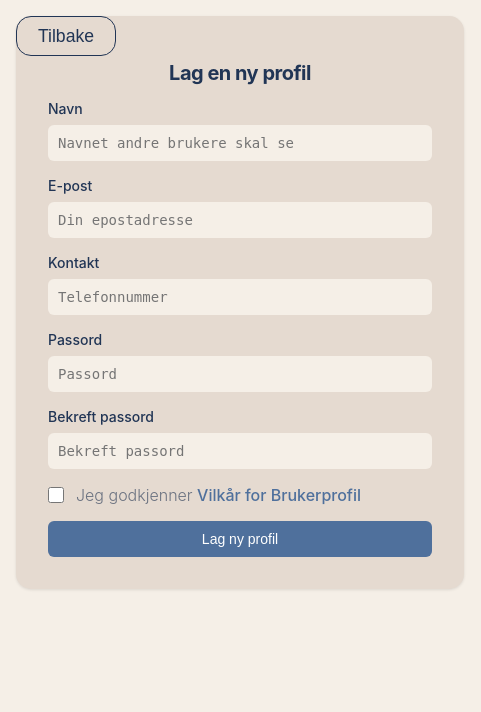
Test case: Submit form with insufficient data
Note: Form subimission without any user input
Click the button "Lag ny profil": coordinates (240, 539) [48, 521, 432, 557]
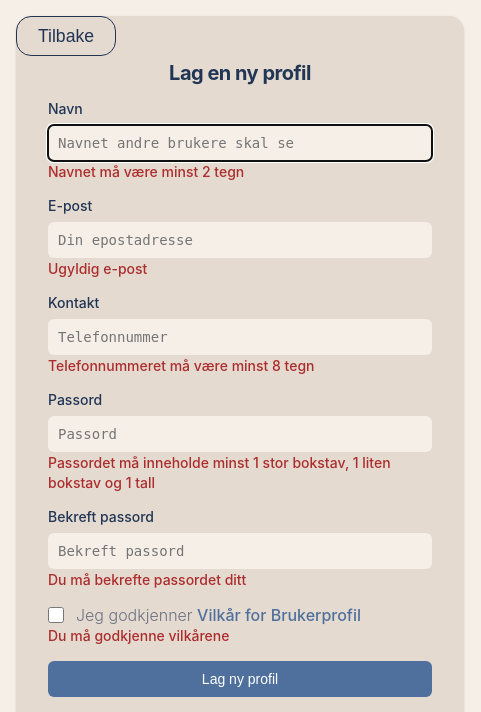
Now the text "Du må godkjenne vilkårene" is shown once, box [48, 627, 229, 644]
